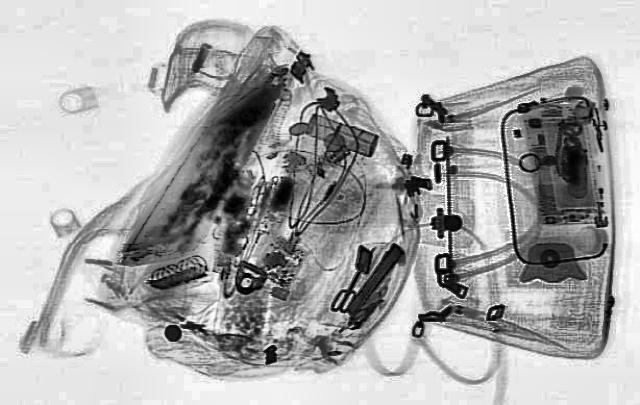Scissors: (326, 243, 382, 314)
